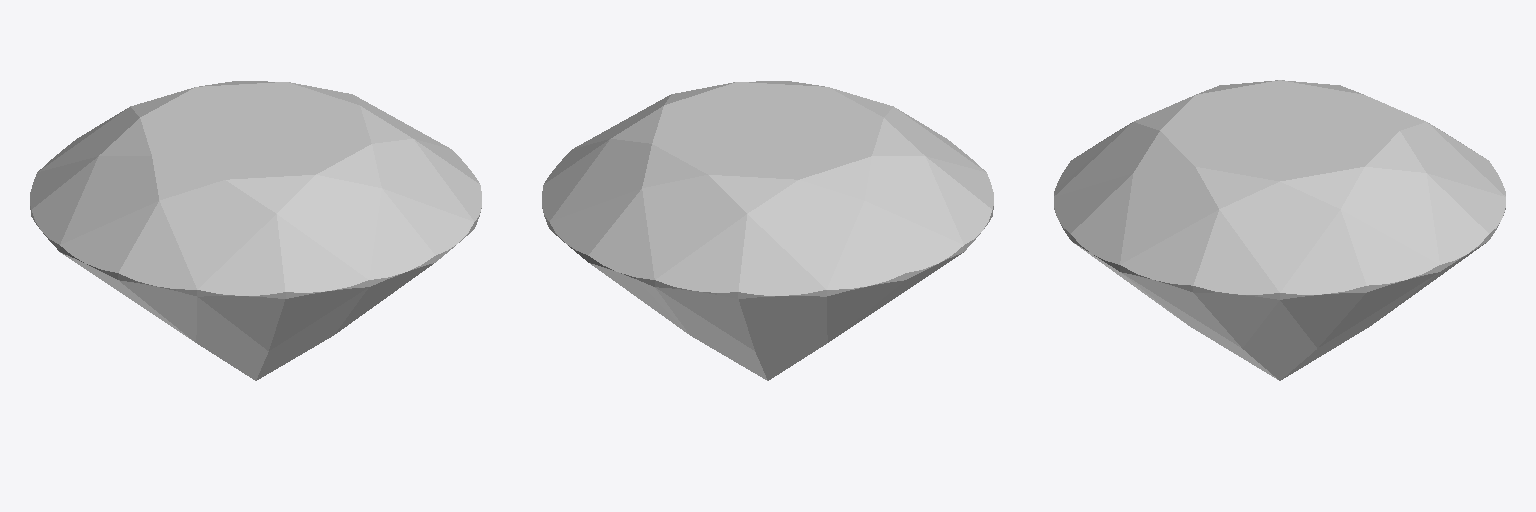
File: diamondTransparent.obj
The picture shows the model from 3 angles: view 1: azimuth 30°, elevation 25°; view 2: azimuth 150°, elevation 25°; view 3: azimuth 270°, elevation 25°; orthographic projection.
Visible parts, largest first — view 1: dobj; view 2: dobj; view 3: dobj.
Part boxes in pixels (left/top/right/bottom): dobj: left=30, top=81, right=481, bottom=380; dobj: left=542, top=81, right=993, bottom=380; dobj: left=1054, top=80, right=1505, bottom=380.
Bounding box in the file's own units: 1.4 × 0.854 × 1.4.